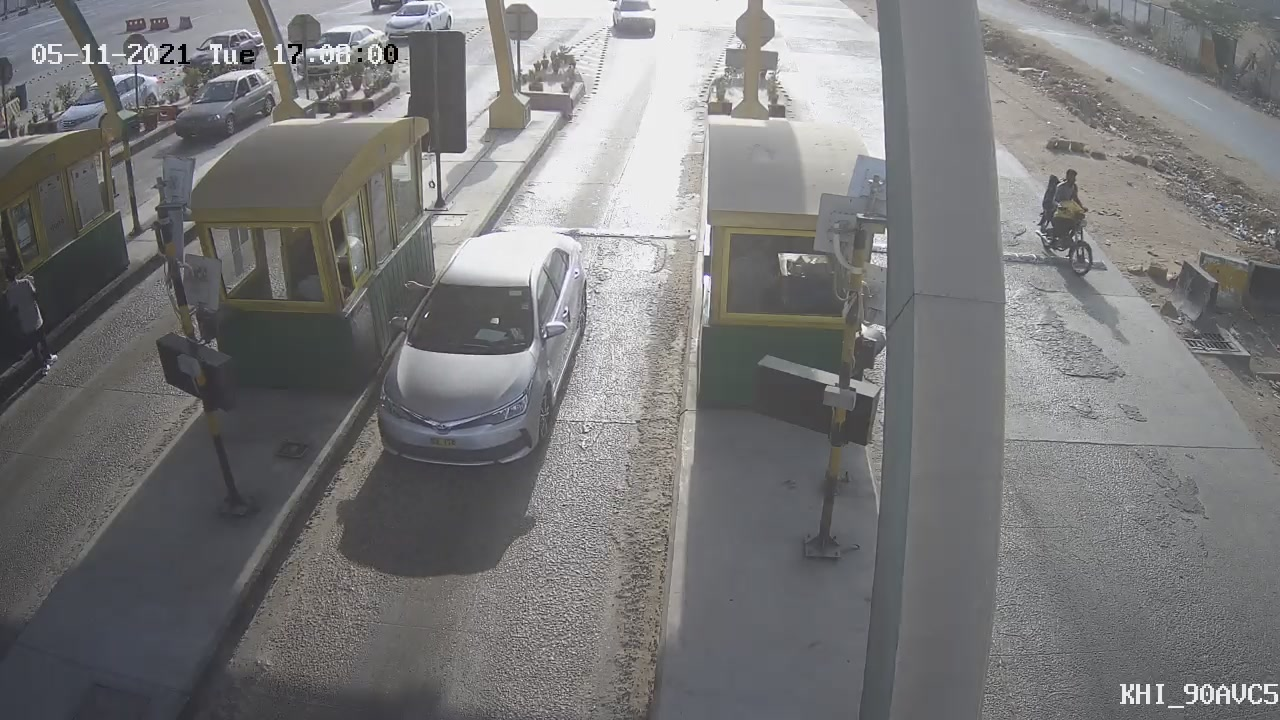F1: (355, 209, 608, 486)
